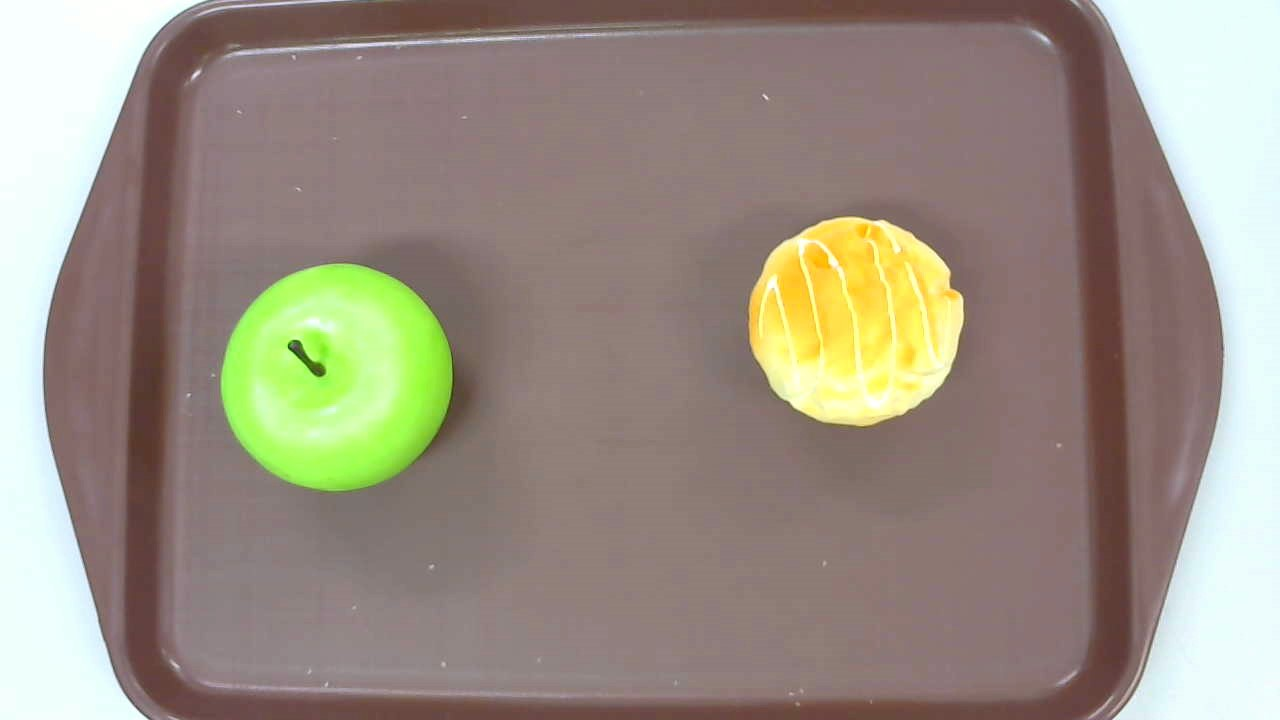cupcake: (747, 216, 965, 428)
green apple: (220, 262, 453, 491)
